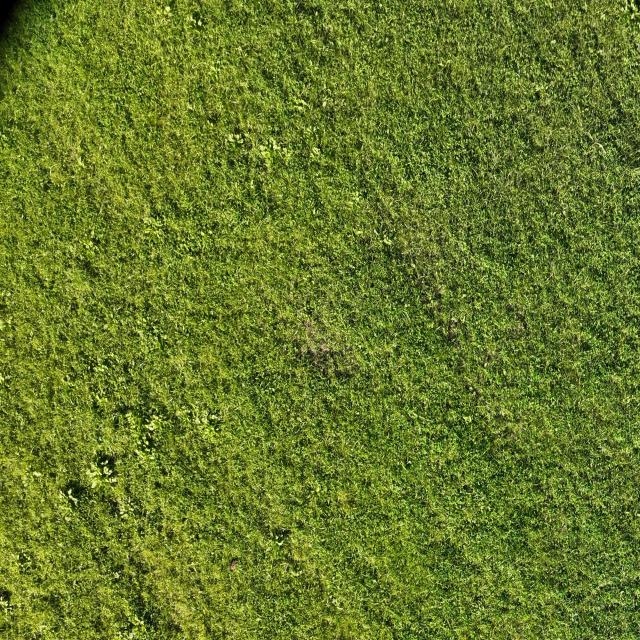rumex: (118, 401, 180, 475), (81, 356, 118, 407), (252, 134, 297, 174), (130, 312, 166, 350), (73, 223, 107, 263), (177, 227, 216, 261), (82, 458, 118, 494), (203, 400, 228, 436), (141, 210, 167, 243), (182, 11, 210, 41), (222, 124, 248, 153), (308, 144, 332, 174)
